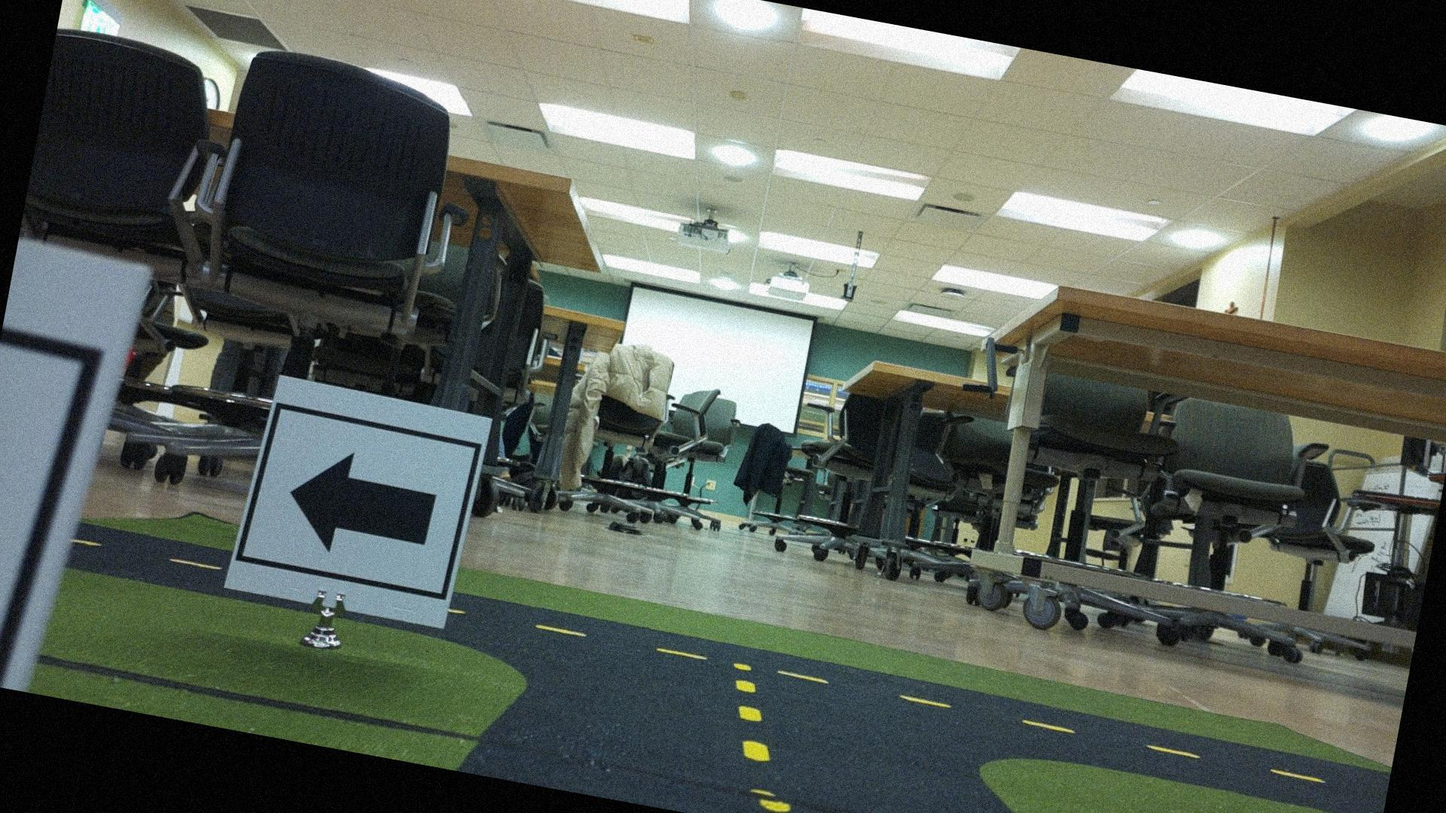turnleft: (233, 379, 484, 635)
yellowline: (719, 659, 787, 767)
